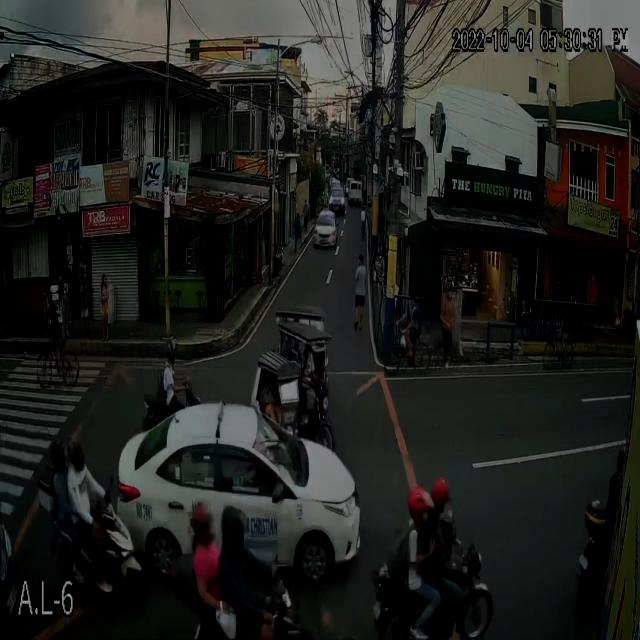Full-Faced: (224, 507, 246, 557), (192, 501, 215, 547), (404, 492, 432, 524), (434, 481, 452, 518), (67, 438, 84, 477), (51, 442, 66, 471), (619, 444, 628, 474)
Half-Faced: (164, 337, 181, 362)
